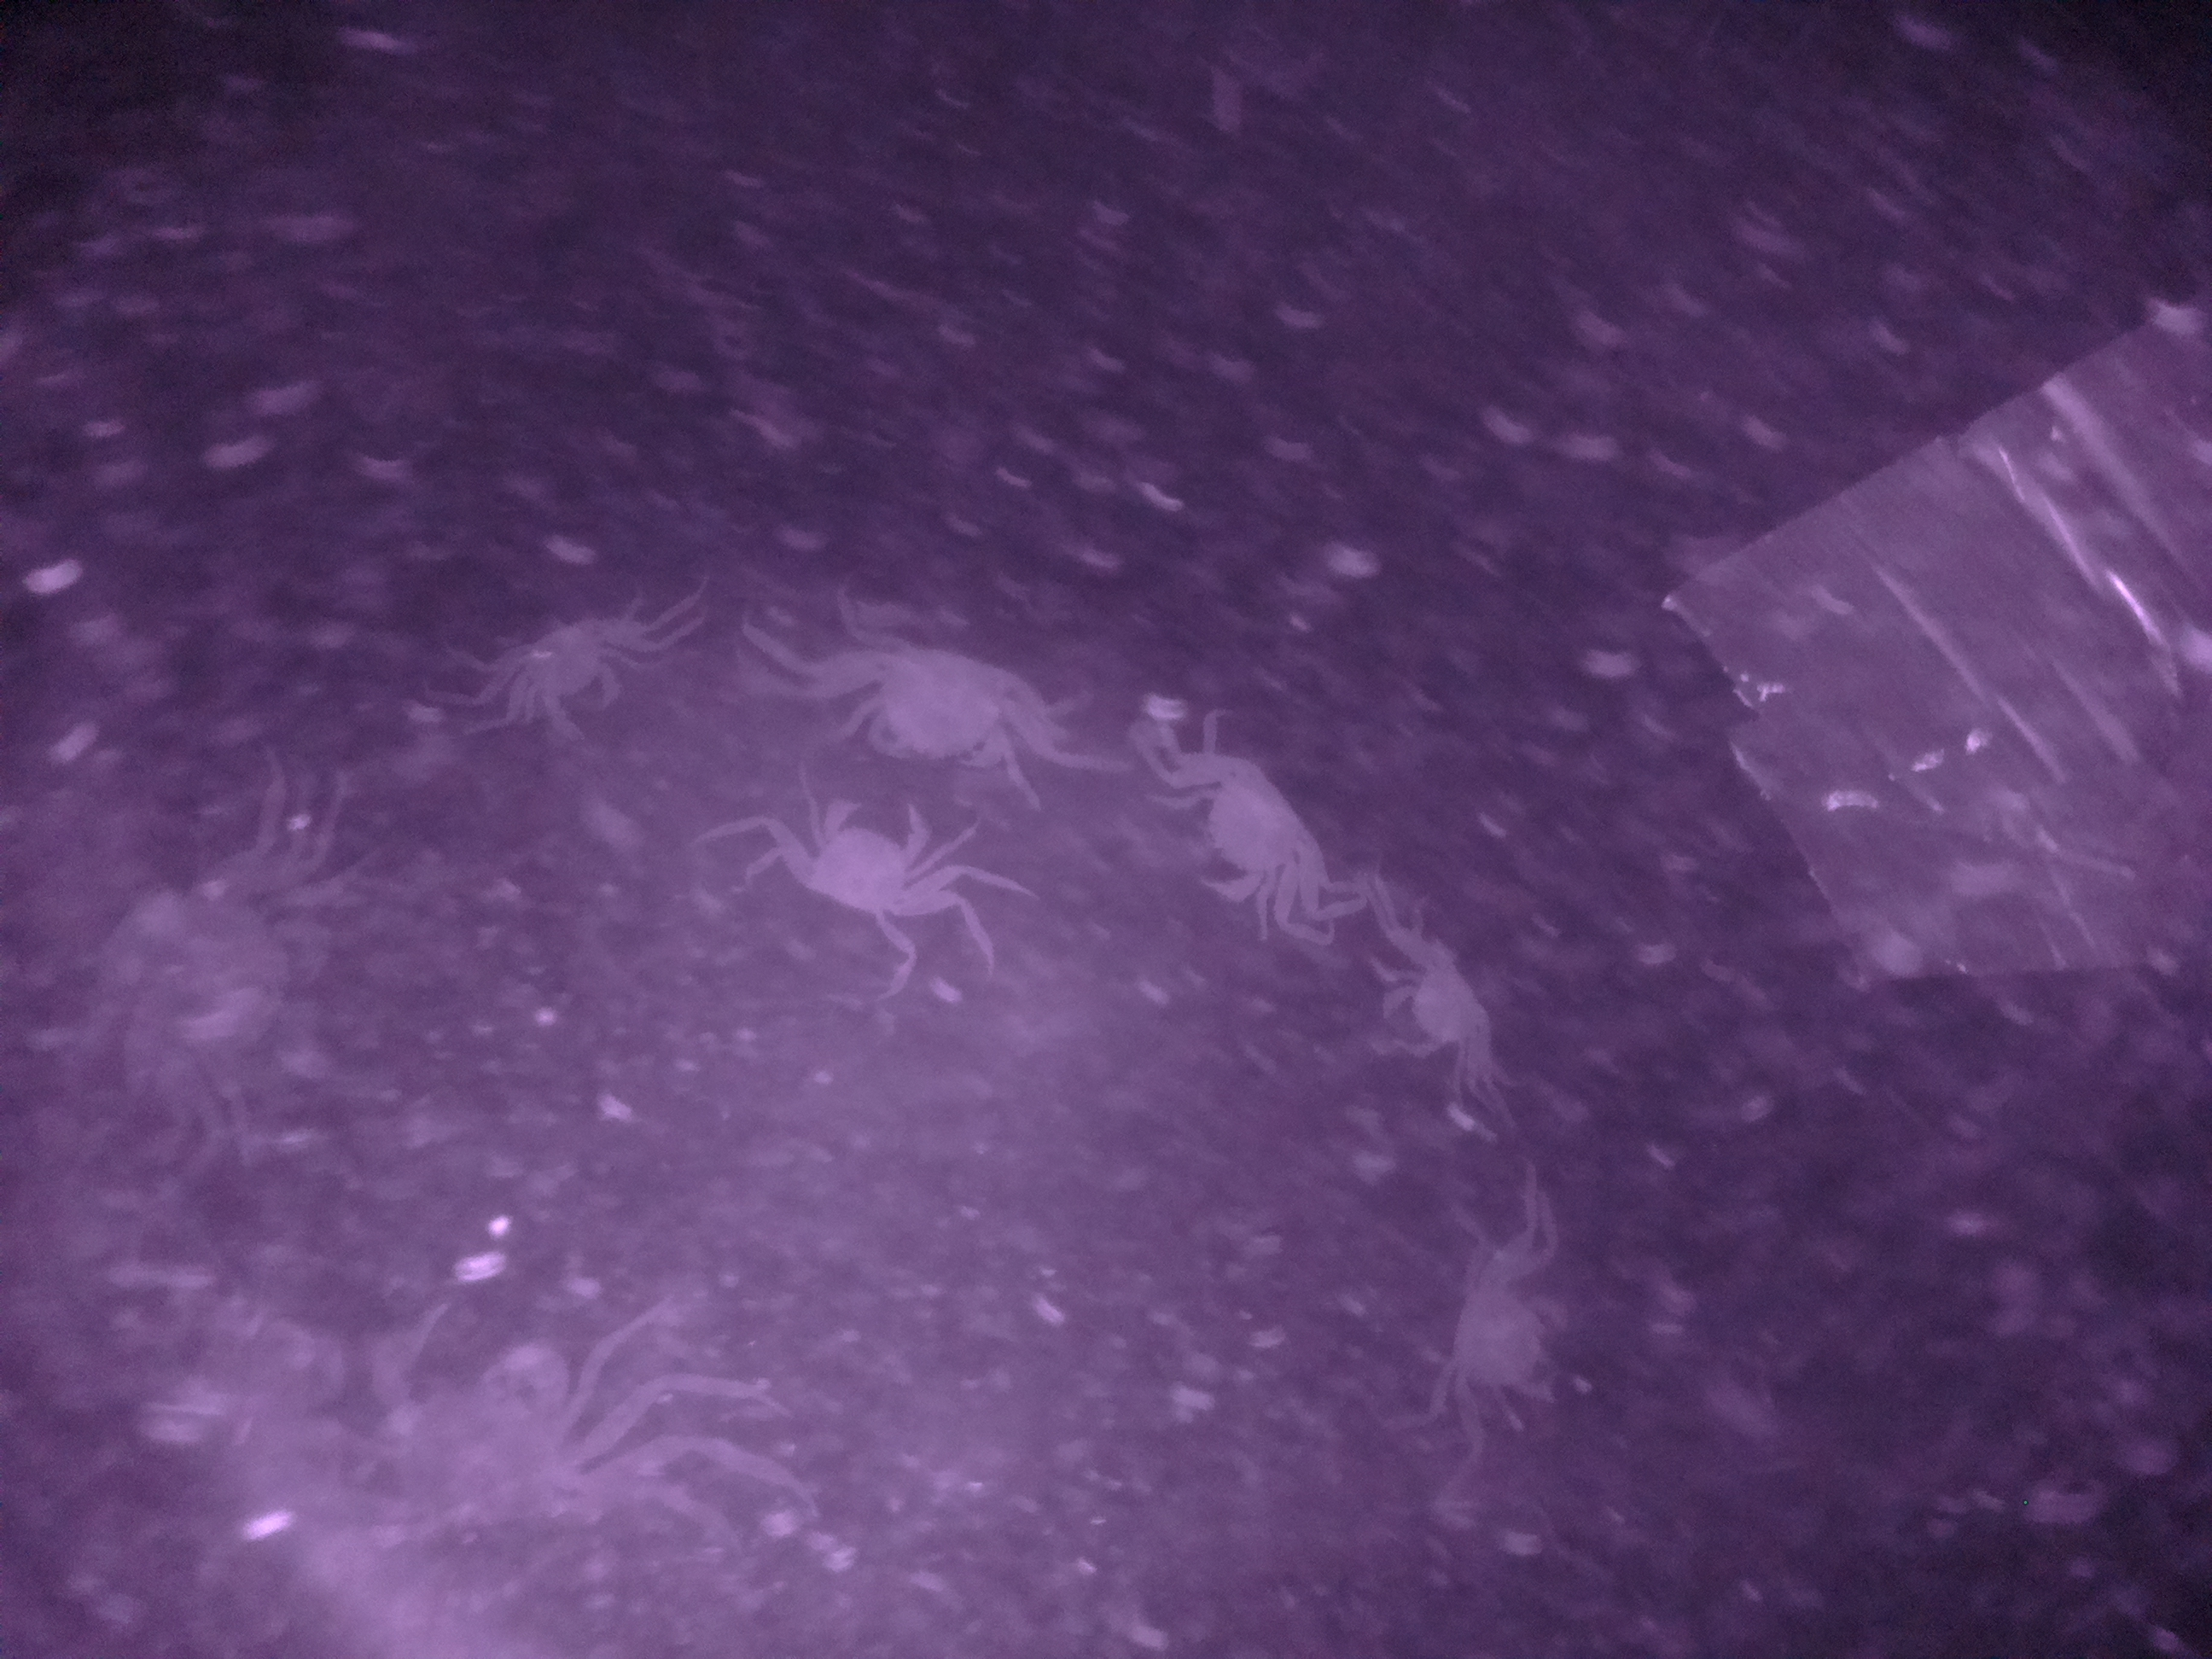Crab: (833, 620, 1031, 781), (1163, 737, 1336, 918), (1447, 1244, 1588, 1439), (782, 795, 941, 936), (1374, 927, 1501, 1094), (502, 596, 634, 744)
